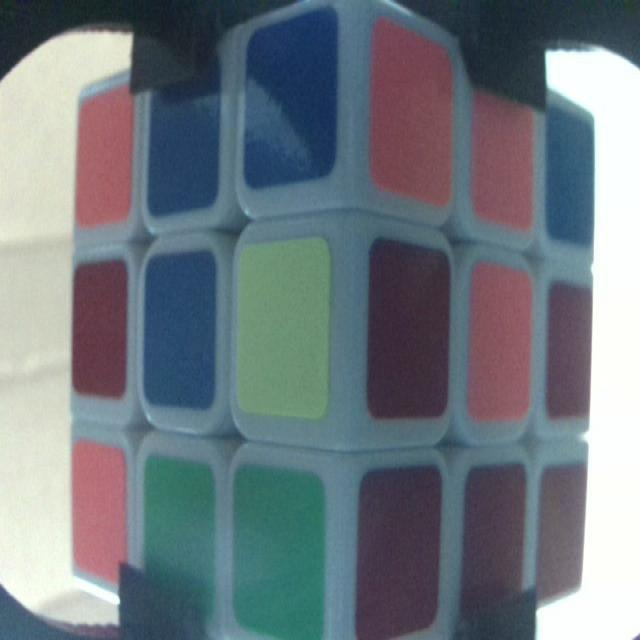b: (243, 9, 333, 180), (146, 48, 222, 208), (146, 256, 218, 410), (548, 97, 596, 240)
g: (232, 468, 322, 640), (144, 457, 214, 624)
o: (371, 21, 452, 203), (469, 263, 534, 412), (475, 70, 535, 222), (75, 88, 132, 228), (75, 442, 131, 581)
r: (364, 244, 452, 416), (362, 472, 441, 629), (468, 482, 524, 615), (76, 263, 127, 394), (550, 282, 590, 418), (542, 472, 585, 588)
y: (238, 244, 328, 421)
